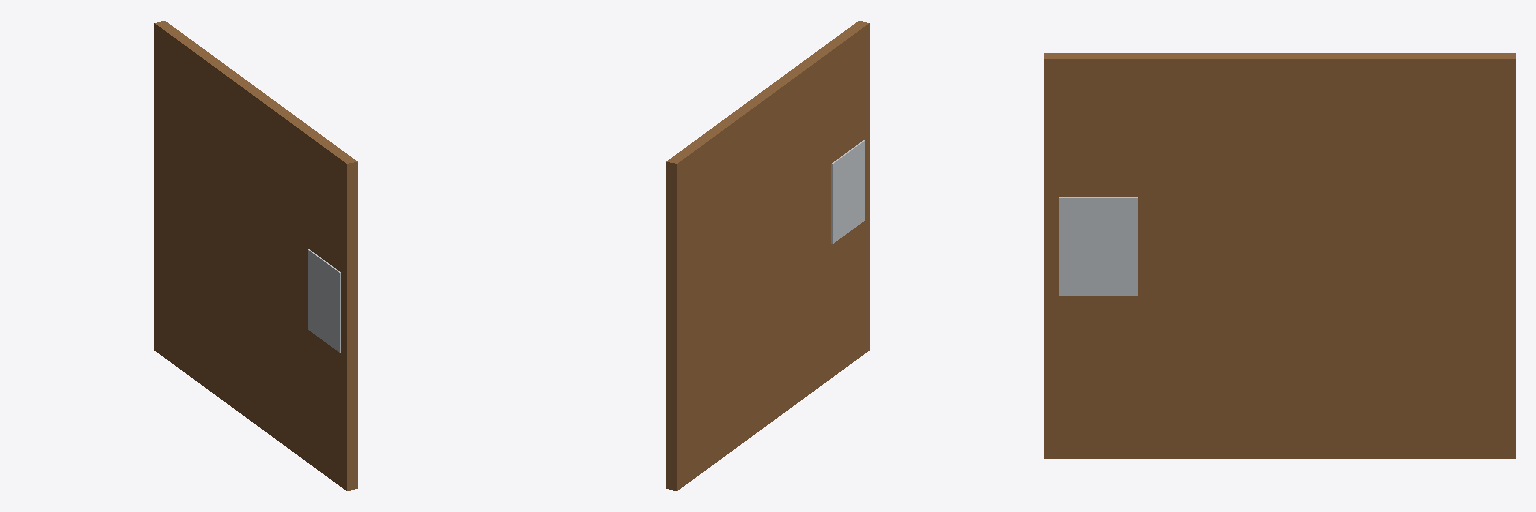
URDF robot description (swing_door):
<?xml version="1.0" encoding="utf-8"?>
<!-- A 0.96 m x 0.90 m swing door leaf on a vertical hinge (URDF z up). Closed at
     0 rad against the stop (the joint's lower limit); positive angles open it
     toward +x. Leaf: 6 kg, 3 cm thick; hinge damping 1 N m s/rad and friction
     0.2 N m, so a pushed door keeps swinging for a while as a real one does. -->
<robot name="swing_door">
  <link name="door_frame">
    <inertial>
      <origin xyz="0 0 0" rpy="0 0 0"/>
      <mass value="1.0"/>
      <inertia ixx="0.01" ixy="0" ixz="0" iyy="0.01" iyz="0" izz="0.01"/>
    </inertial>
  </link>
  <link name="door_leaf">
    <inertial>
      <origin xyz="0 -0.49 0.47" rpy="0 0 0"/>
      <mass value="6.0"/>
      <!-- Box 0.03 x 0.96 x 0.90 about its centre. -->
      <inertia ixx="0.8658" ixy="0" ixz="0" iyy="0.4055" iyz="0" izz="0.4613"/>
    </inertial>
    <visual>
      <origin xyz="0 -0.49 0.47" rpy="0 0 0"/>
      <geometry><box size="0.03 0.96 0.90"/></geometry>
      <material name="door_wood"><color rgba="0.62 0.46 0.30 1"/></material>
    </visual>
    <visual>
      <origin xyz="0.017 -0.86 0.50" rpy="0 0 0"/>
      <geometry><box size="0.004 0.16 0.22"/></geometry>
      <material name="push_plate"><color rgba="0.82 0.84 0.86 1"/></material>
    </visual>
    <visual>
      <origin xyz="-0.017 -0.86 0.50" rpy="0 0 0"/>
      <geometry><box size="0.004 0.16 0.22"/></geometry>
      <material name="push_plate"><color rgba="0.82 0.84 0.86 1"/></material>
    </visual>
    <collision>
      <origin xyz="0 -0.49 0.47" rpy="0 0 0"/>
      <geometry><box size="0.03 0.96 0.90"/></geometry>
    </collision>
  </link>
  <joint name="door_hinge" type="revolute">
    <origin xyz="0 0 0" rpy="0 0 0"/>
    <parent link="door_frame"/>
    <child link="door_leaf"/>
    <axis xyz="0 0 1"/>
    <limit lower="0.0" upper="1.75" effort="0" velocity="3.0"/>
    <dynamics damping="1.0" friction="0.2"/>
  </joint>
</robot>

--- Render facts (derived) ---
Views: 3 orthographic renders of the robot side by side, from view 1: azimuth 30°, elevation 25°; view 2: azimuth 150°, elevation 25°; view 3: azimuth 270°, elevation 25°.
Model swing_door with 2 links and 1 joints (1 revolute), rooted at door_frame, posed every joint at zero.
Links seen in each view (by area): view 1: door_leaf; view 2: door_leaf; view 3: door_leaf.
Link boxes in pixels (<box>): door_leaf: <box>154,21,357,490</box>; door_leaf: <box>666,21,869,490</box>; door_leaf: <box>1044,53,1515,458</box>.
Bounding box of the posed robot: 0.038 × 0.96 × 0.9 m (x, y, z).
Geometry: primitives only (box / cylinder / sphere), no mesh files.
